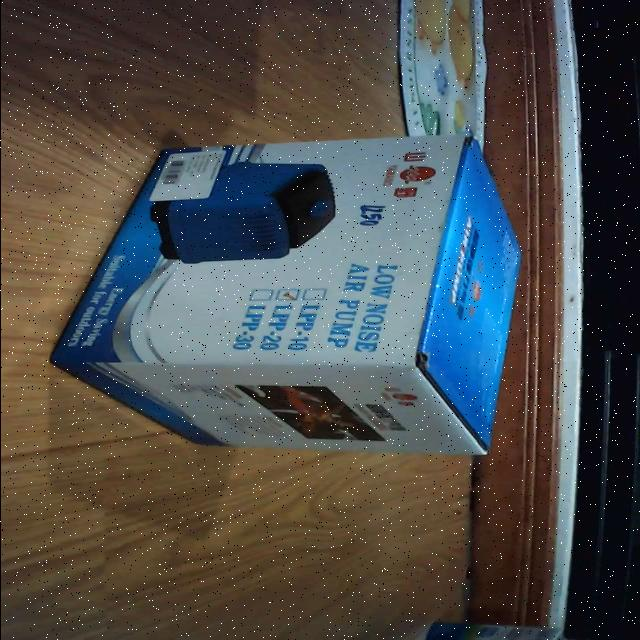YAMANO_LPP_20: (46, 136, 535, 462)
